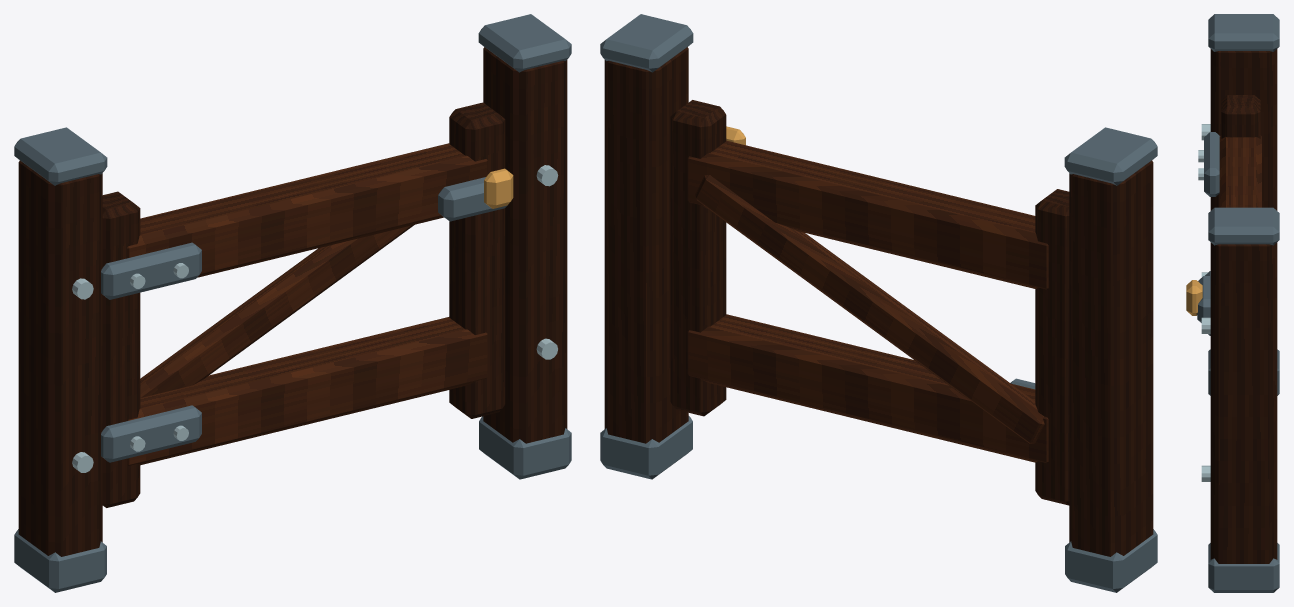
The model's file is portao-cerca.glb.
3 views of the same model, side by side, from view 1: azimuth 30°, elevation 25°; view 2: azimuth 150°, elevation 25°; view 3: azimuth 270°, elevation 25° (orthographic). The views are drawn at different scales.
Visible parts, largest first — view 1: Alavanca do fecho, Montante.002; view 2: Alavanca do fecho, Montante.002; view 3: Montante.002, Alavanca do fecho.
Boxes of the visible parts, x1,y1,x2,y2 form: Alavanca do fecho: (101, 102, 513, 507); Montante.002: (14, 14, 571, 592); Alavanca do fecho: (670, 100, 1069, 505); Montante.002: (600, 14, 1157, 592); Montante.002: (1201, 14, 1279, 592); Alavanca do fecho: (1186, 95, 1261, 335).
Size of the model in its own units: 1.01 by 0.7945 by 0.183.
Materials: 5 (2 with a texture image).
